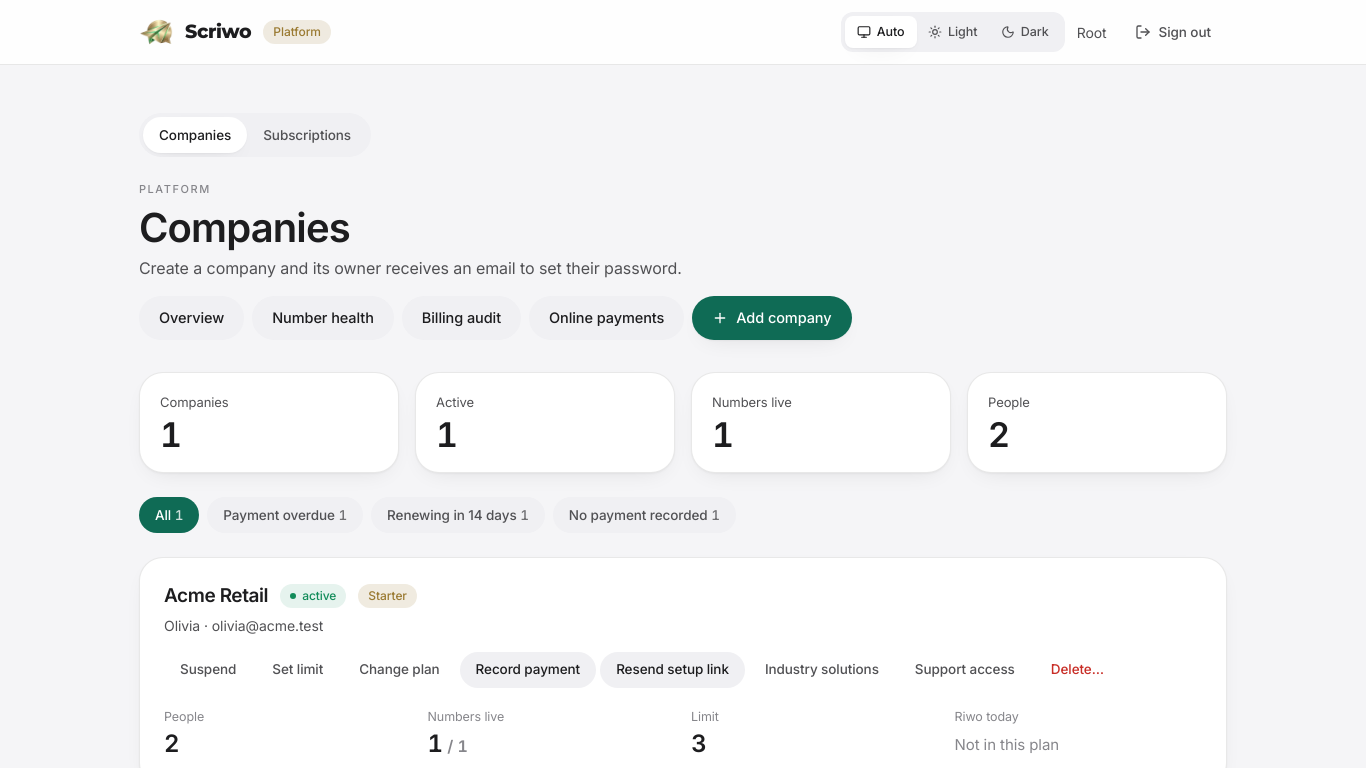
Test: each company shows its plan and can be moved to another › moves a company to another plan and reports what it keeps
expect the heading "Acme Retail" is shown: met, box [164, 582, 268, 610]
Click the button "Change plan" at (399, 670), box [343, 652, 456, 688]
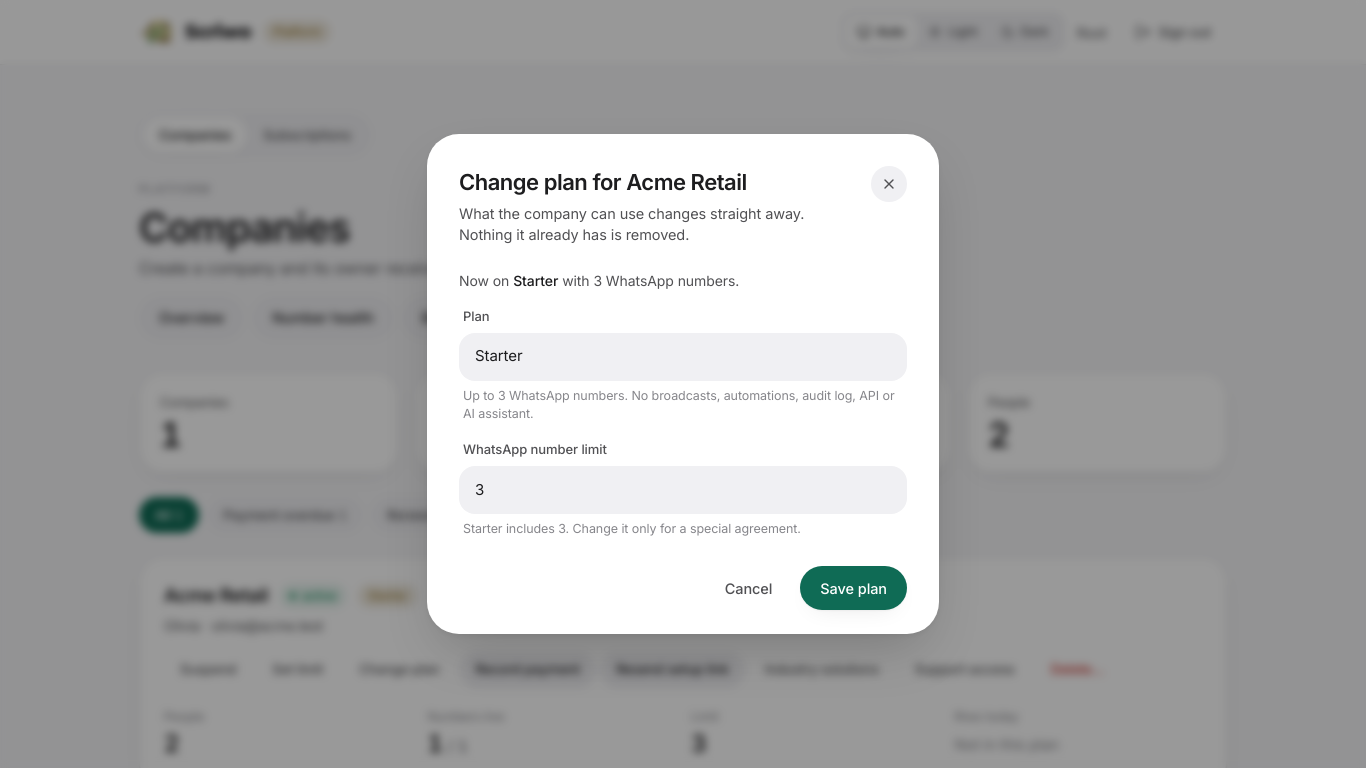
expect the text "Now on Starter with 3 WhatsApp numbers." is shown: met, box [459, 272, 739, 289]
expect the dropdown labelled "Plan" shows "Starter": met
expect the number field named "WhatsApp session limit" holds "3": met, box [459, 466, 907, 514]
Select "Free" in the dropdown labelled "Plan" at (683, 357), box [459, 333, 907, 381]
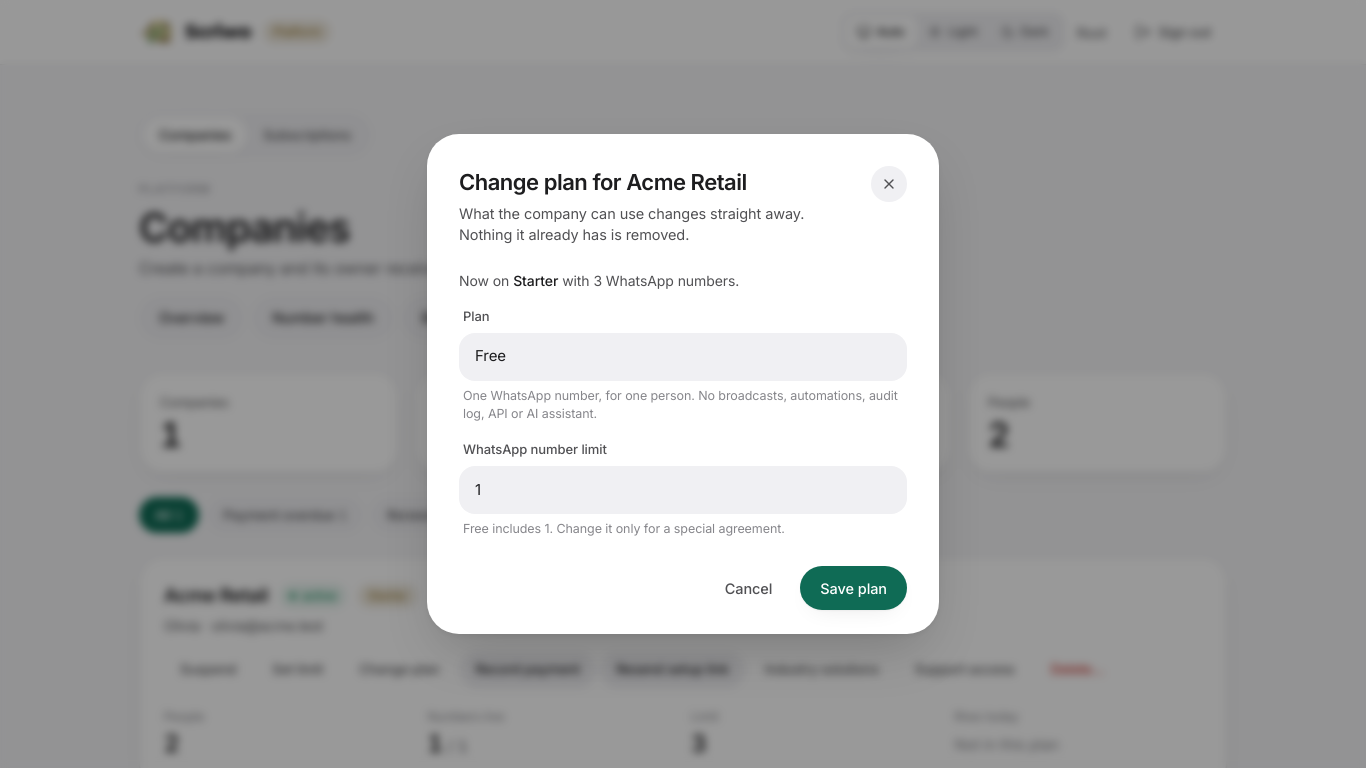
expect the number field named "WhatsApp session limit" holds "1": met, box [459, 466, 907, 514]
Click the button "Save plan" at (854, 588), box [800, 566, 907, 610]
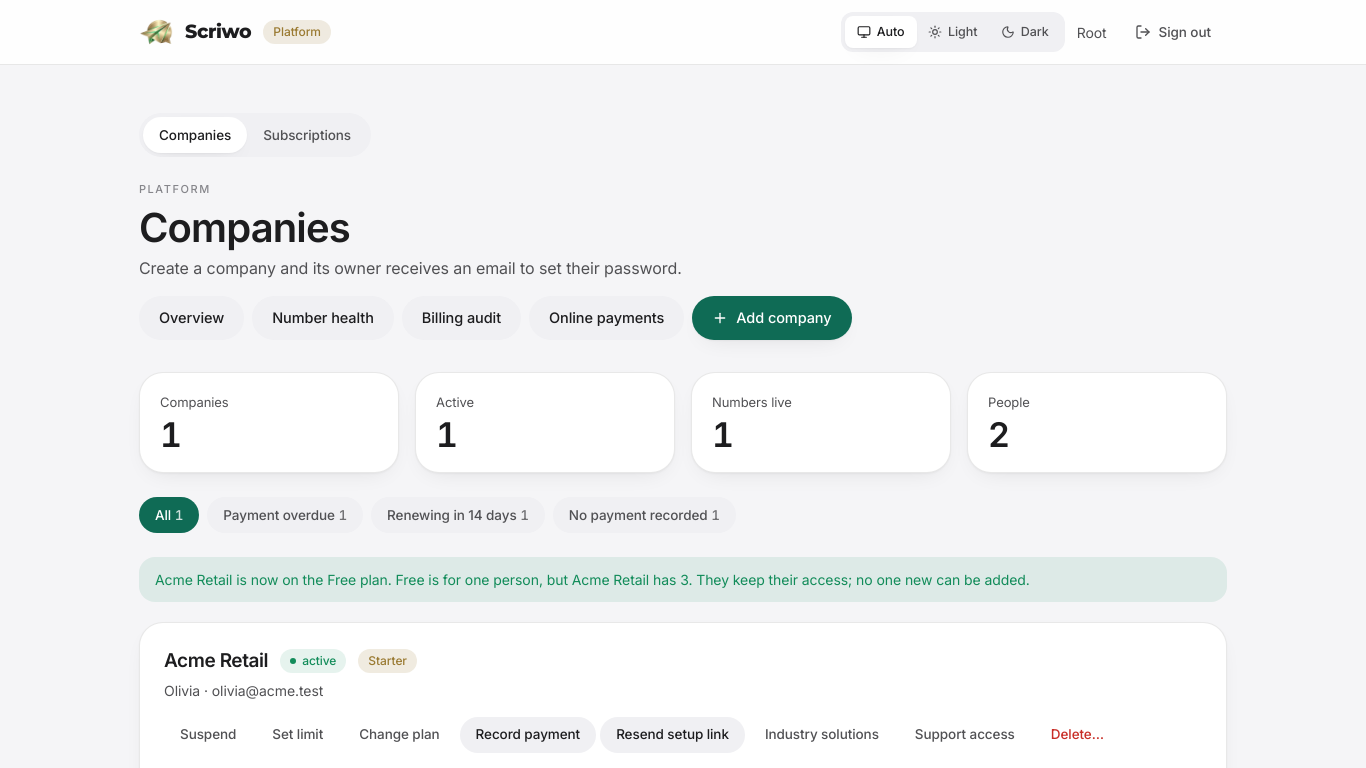
expect the text "Acme Retail is now on the Free plan." shows "They keep their access; no one new can be added.": met, box [155, 571, 1030, 588]
